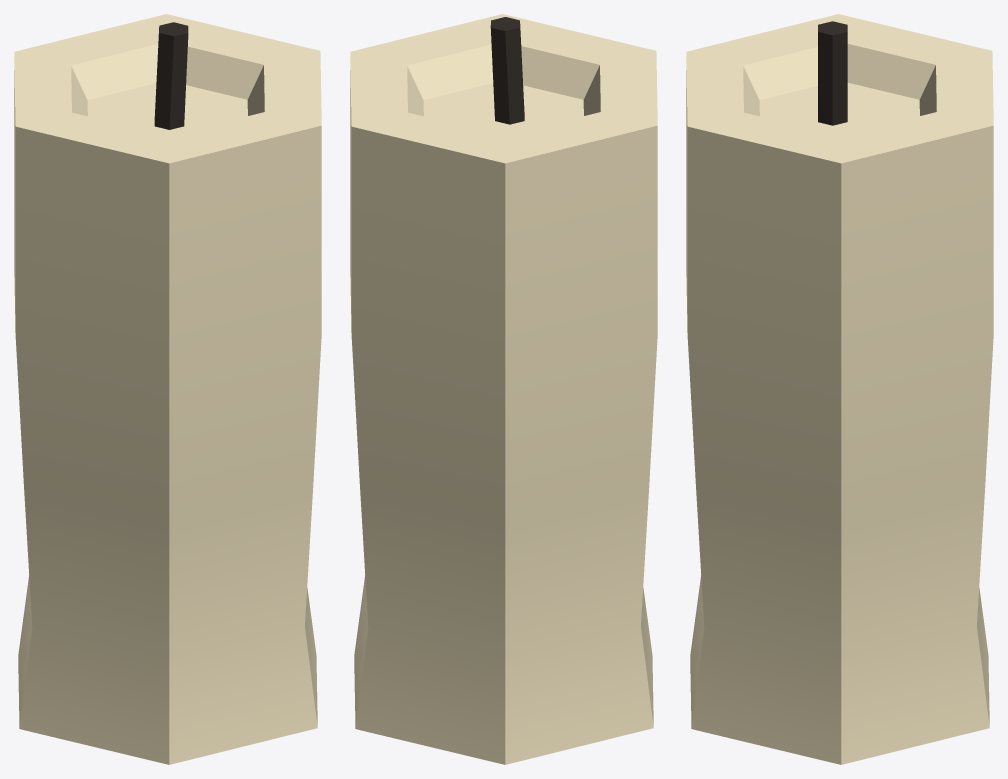
The model's file is Candle_02.fbx.
The picture shows the model from 3 angles, left to right: view 1: azimuth 30°, elevation 25°; view 2: azimuth 150°, elevation 25°; view 3: azimuth 270°, elevation 25°; orthographic projection.
Parts seen in each view (by area): view 1: Candle_02; view 2: Candle_02; view 3: Candle_02.
Part boxes in pixels (<box>): Candle_02: <box>14,14,321,764</box>; Candle_02: <box>350,14,657,764</box>; Candle_02: <box>686,14,993,764</box>.
Size of the model in its own units: 6.21 by 12.88 by 5.4.
